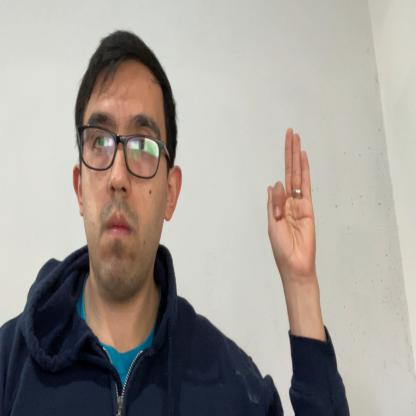F: (267, 126, 317, 281)
